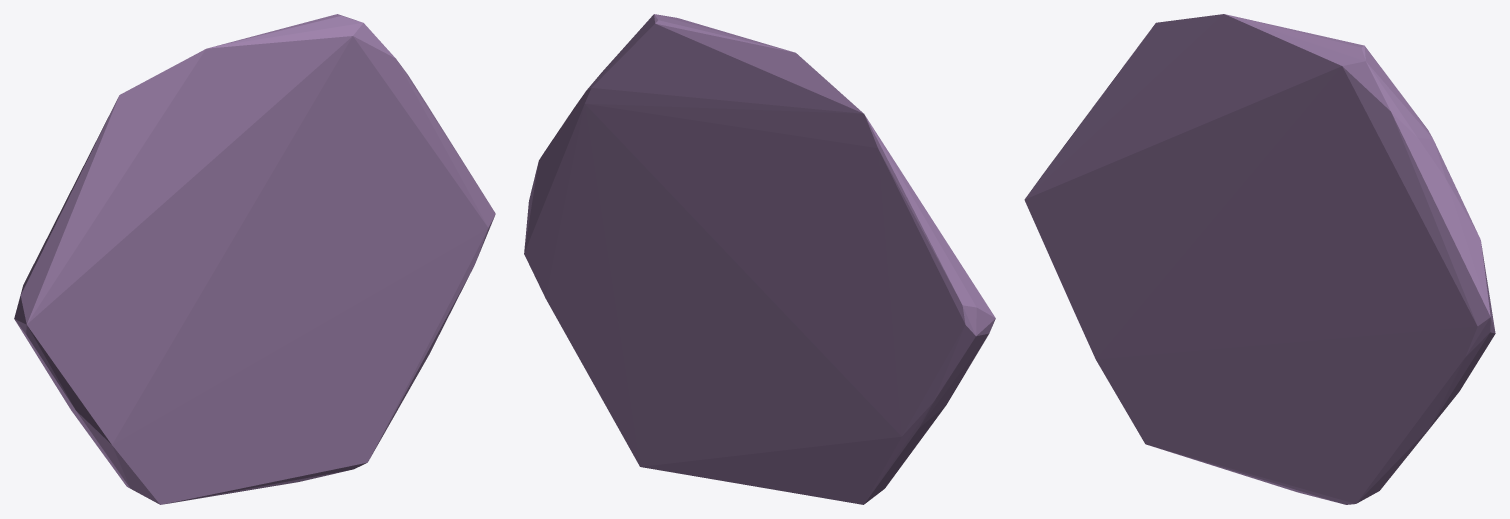
The model's file is food_prepared_waffle_b01.glb.
3 views of the same model, side by side, from view 1: azimuth 30°, elevation 25°; view 2: azimuth 150°, elevation 25°; view 3: azimuth 330°, elevation 25° (orthographic).
Parts seen in each view (by area): view 1: geometry_0; view 2: geometry_0; view 3: geometry_0.
Part boxes in pixels (x1=…): geometry_0: x1=14, y1=14, x2=495, y2=504; geometry_0: x1=524, y1=14, x2=995, y2=504; geometry_0: x1=1024, y1=14, x2=1495, y2=504.
Bounding box in the file's own units: 0.4759 × 0.4358 × 0.0472.
